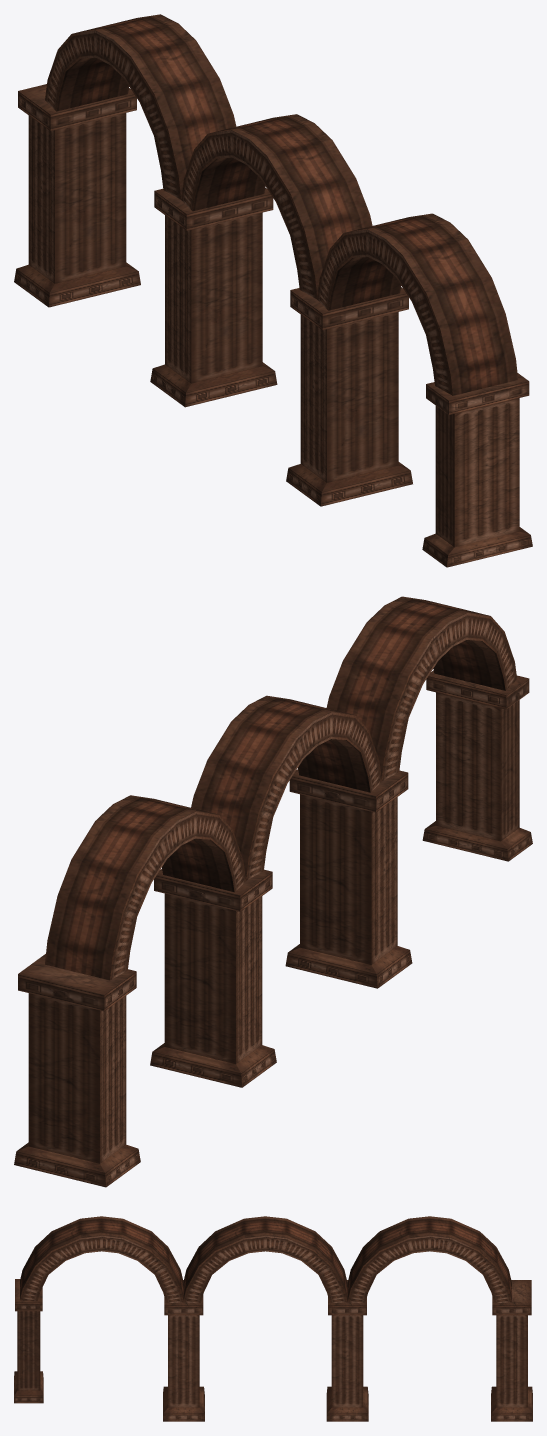
File: Catacombs.unity_4.obj
3 renders of one model, top to bottom at view 1: azimuth 30°, elevation 25°; view 2: azimuth 150°, elevation 25°; view 3: azimuth 270°, elevation 25°, orthographic. The views are drawn at different scales.
Visible parts, largest first — view 1: ArchWall 1, ArchWall 2, ArchWall 3, ArchWallColumn; view 2: ArchWall 2, ArchWall 3, ArchWall 1, ArchWallColumn; view 3: ArchWall 2, ArchWall 3, ArchWall 1, ArchWallColumn.
Boxes of the visible parts, x1,y1,x2,y2 form: ArchWall 1: (286, 213, 518, 506); ArchWall 2: (14, 14, 236, 307); ArchWall 3: (150, 114, 372, 407); ArchWallColumn: (422, 373, 532, 567); ArchWall 2: (14, 795, 245, 1187); ArchWall 3: (150, 695, 381, 1087); ArchWall 1: (285, 596, 517, 988); ArchWallColumn: (422, 670, 532, 861); ArchWall 2: (347, 1216, 532, 1421); ArchWall 3: (183, 1216, 368, 1421); ArchWall 1: (20, 1216, 204, 1421); ArchWallColumn: (14, 1279, 43, 1403).
Bounding box in the file's own units: 1.83 × 5.7 × 14.73.
1 material, 1 textured.
